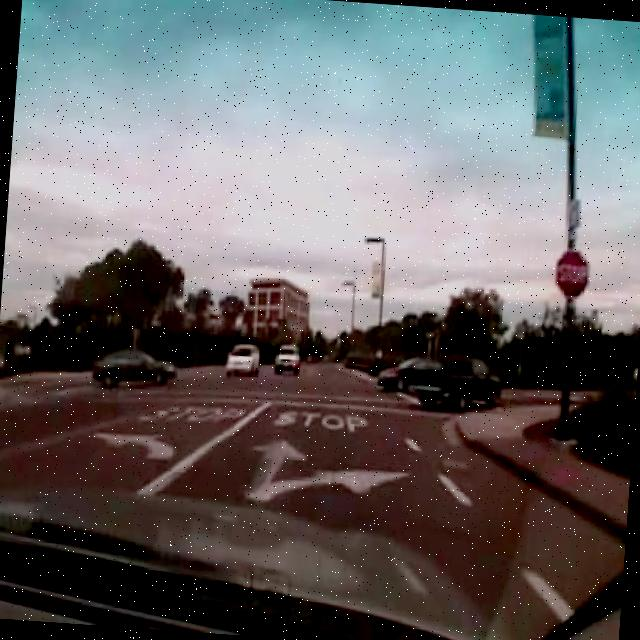Stop: (553, 248, 592, 302)
